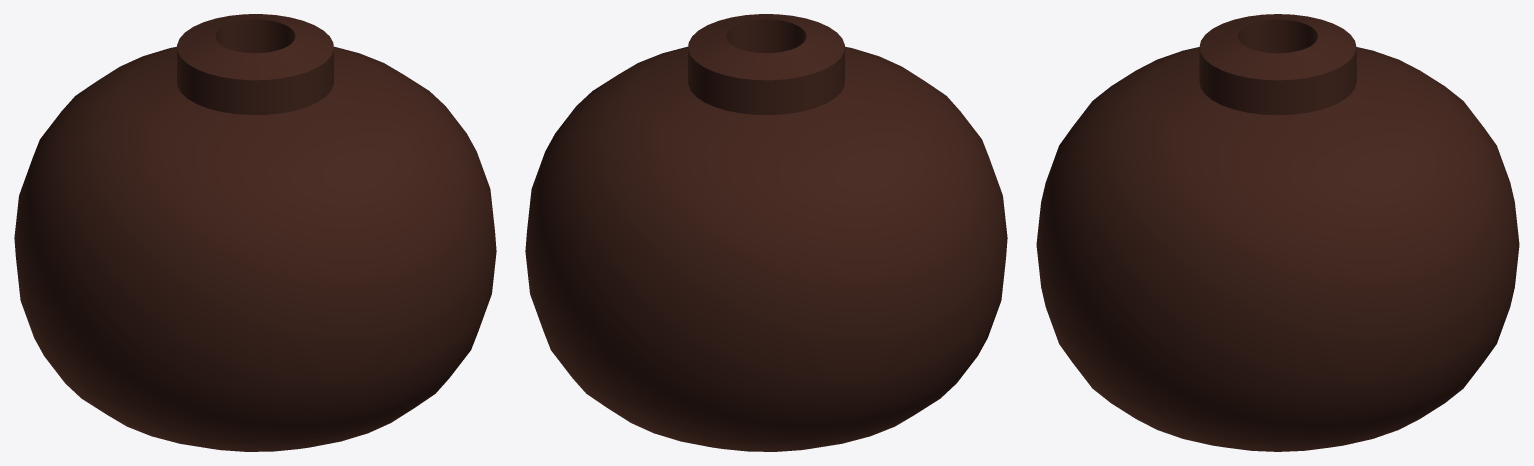
File: firebomb.gltf
The picture shows the model from 3 angles, left to right: view 1: azimuth 30°, elevation 25°; view 2: azimuth 150°, elevation 25°; view 3: azimuth 270°, elevation 25°; orthographic projection.
Parts seen in each view (by area): view 1: Sphere; view 2: Sphere; view 3: Sphere.
Part boxes in pixels (x1=…): Sphere: x1=14, y1=14, x2=496, y2=451; Sphere: x1=525, y1=14, x2=1007, y2=451; Sphere: x1=1036, y1=14, x2=1519, y2=451.
Bounding box in the file's own units: 0.14 × 0.1226 × 0.14.
